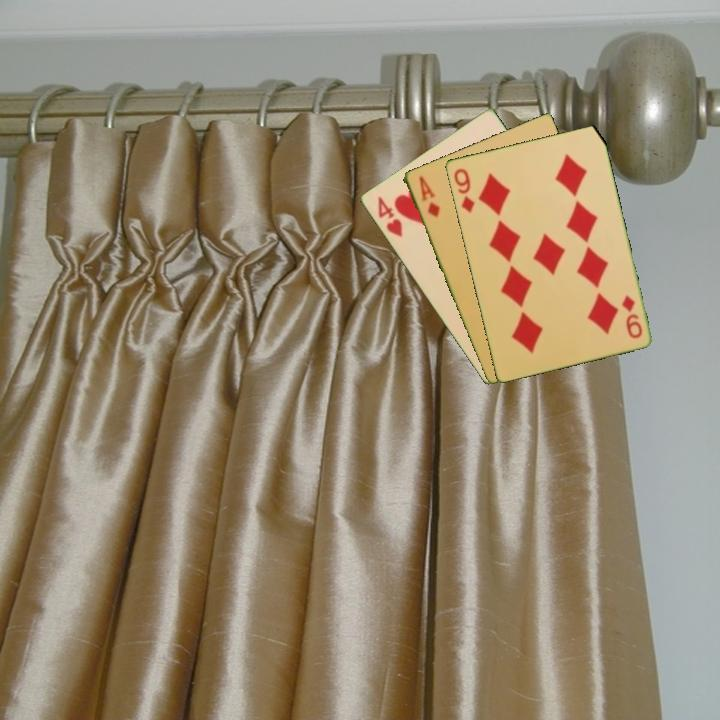4h: (374, 193, 405, 240)
9d: (450, 165, 477, 216), (618, 292, 645, 341)
Ad: (415, 172, 443, 220)
